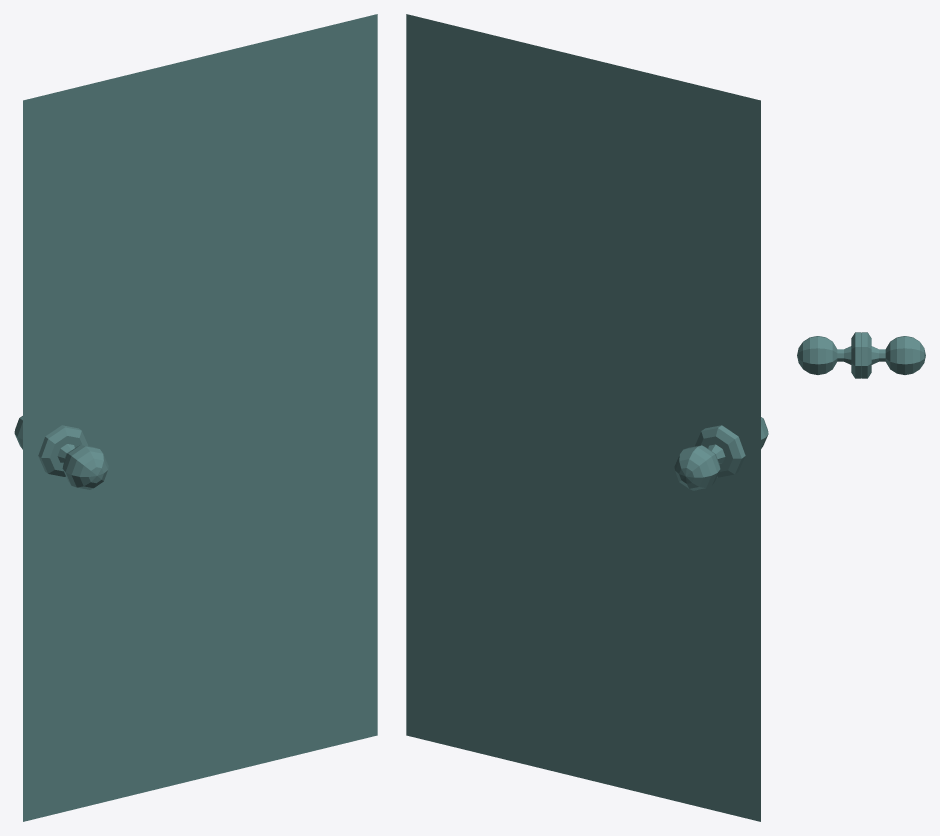
File: Bathroom_Door.fbx
3 views of the same model, side by side, from view 1: azimuth 30°, elevation 25°; view 2: azimuth 150°, elevation 25°; view 3: azimuth 270°, elevation 25° (orthographic). The views are drawn at different scales.
Visible parts, largest first — view 1: door1; view 2: door1; view 3: door1.
Boxes of the visible parts, left/top/right/bottom form: door1: left=14, top=14, right=377, bottom=821; door1: left=406, top=14, right=768, bottom=821; door1: left=797, top=332, right=925, bottom=378.
Size of the model in its own units: 9.21 by 17.92 by 3.21.
